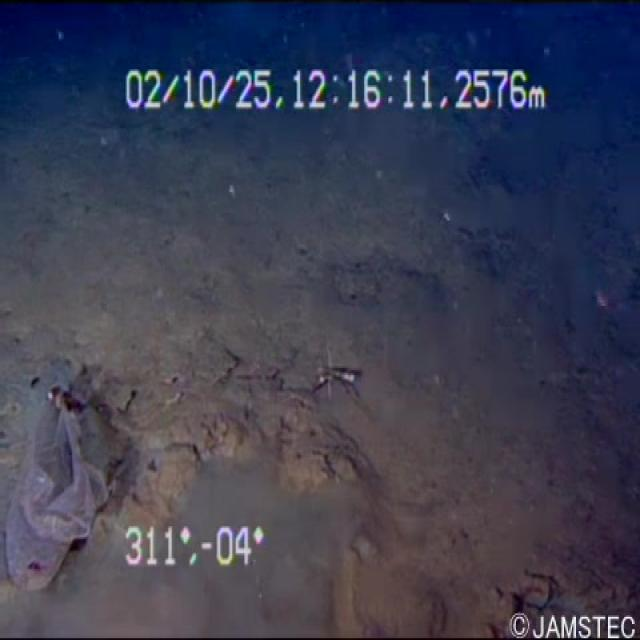plastic: (0, 352, 129, 606)
